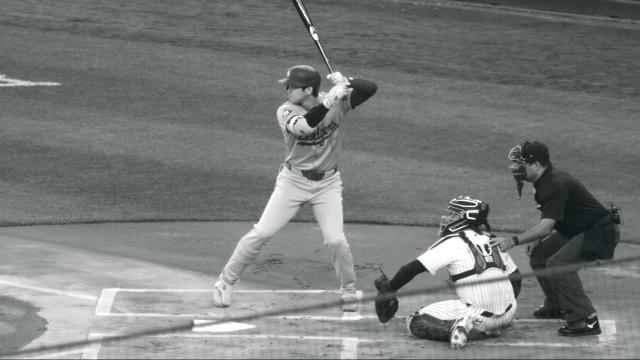bat: (292, 0, 334, 74)
